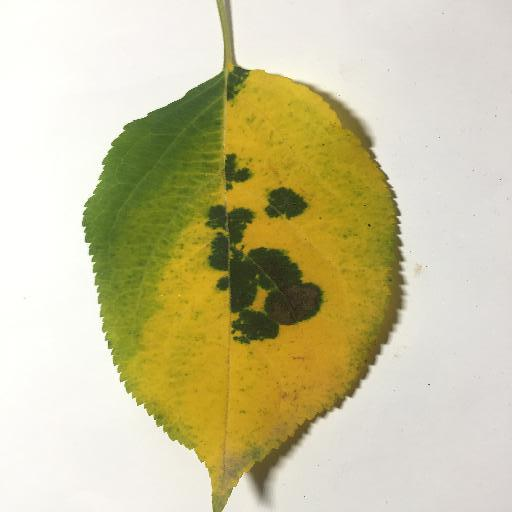Brown_Spot: (263, 287, 318, 318)
